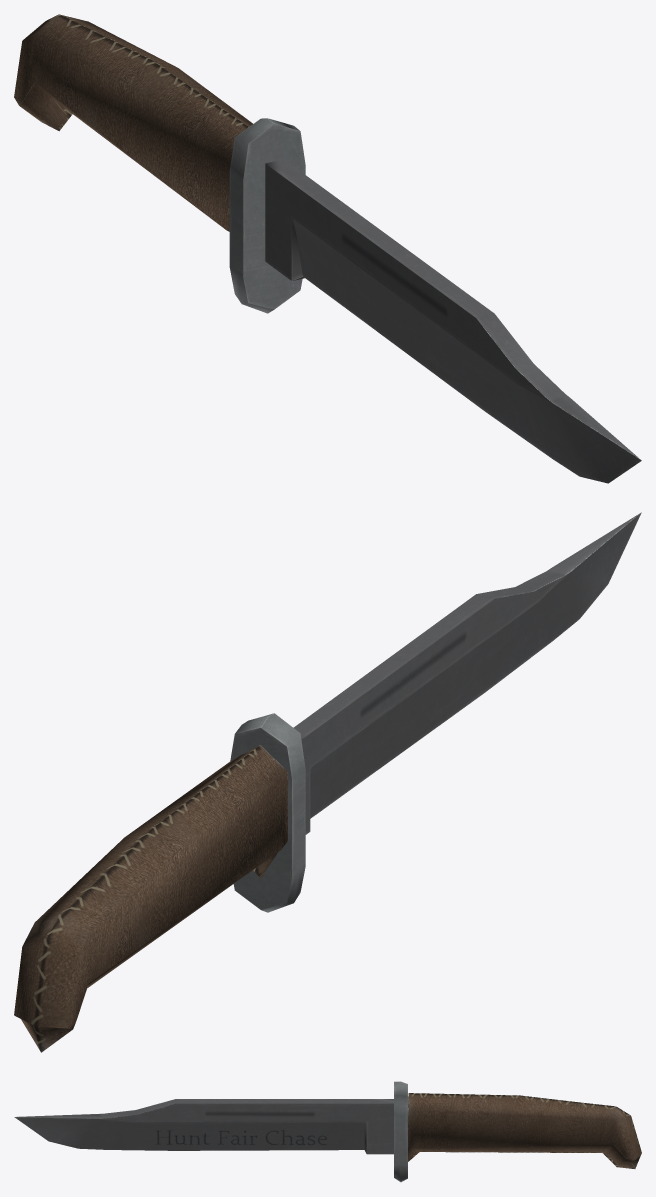
File: Knife.obj
3 views of the same model, one above another, from view 1: azimuth 30°, elevation 25°; view 2: azimuth 150°, elevation 25°; view 3: azimuth 270°, elevation 25° (orthographic). The views are drawn at different scales.
Parts seen in each view (by area): view 1: Knife; view 2: Knife; view 3: Knife.
Boxes of the visible parts, x1,y1,x2,y2 form: Knife: [14, 14, 641, 483]; Knife: [14, 512, 641, 1052]; Knife: [14, 1081, 641, 1182].
Bounding box in the file's own units: 20.35 × 60.84 × 343.
Materials: 1 (1 with a texture image).
